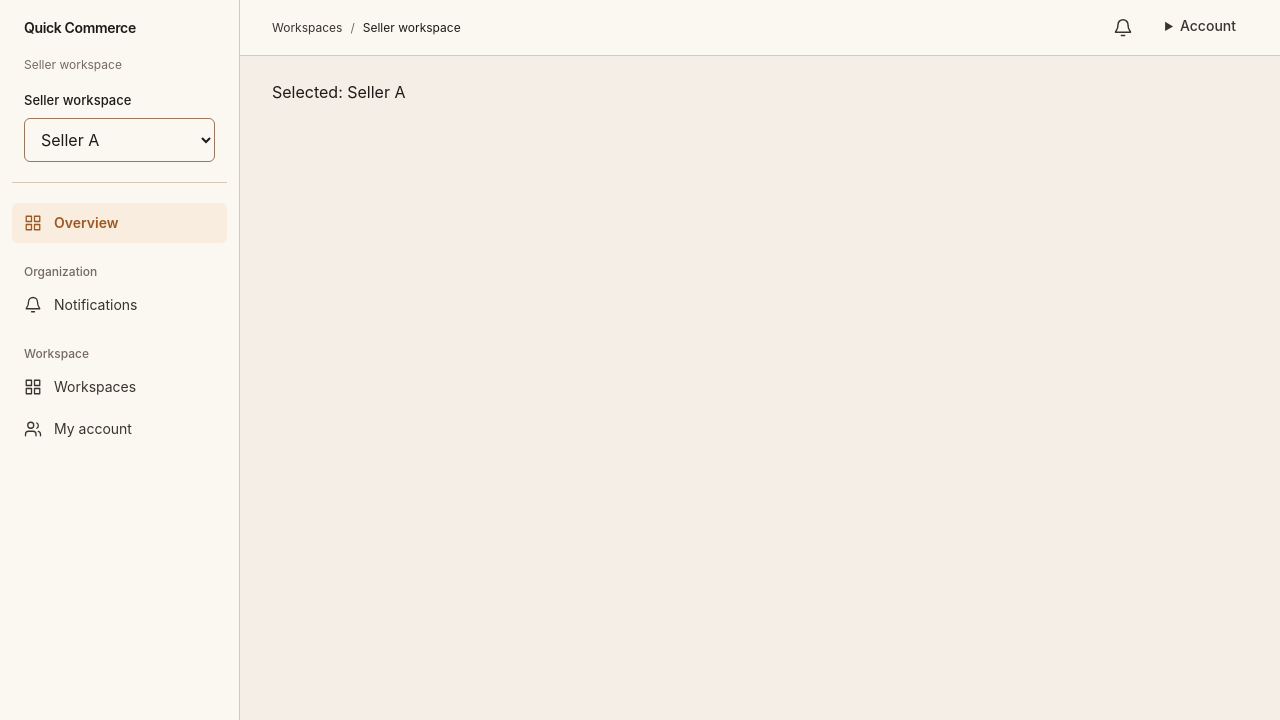
Test: workspace authorization UX › validates seller context and revalidates when selecting another seller
expect the heading "Selected: Seller A" is shown: met, box [272,82,406,102]
Select "Seller B" in the dropdown labelled "Seller workspace" at (120, 140), box [24,118,215,162]
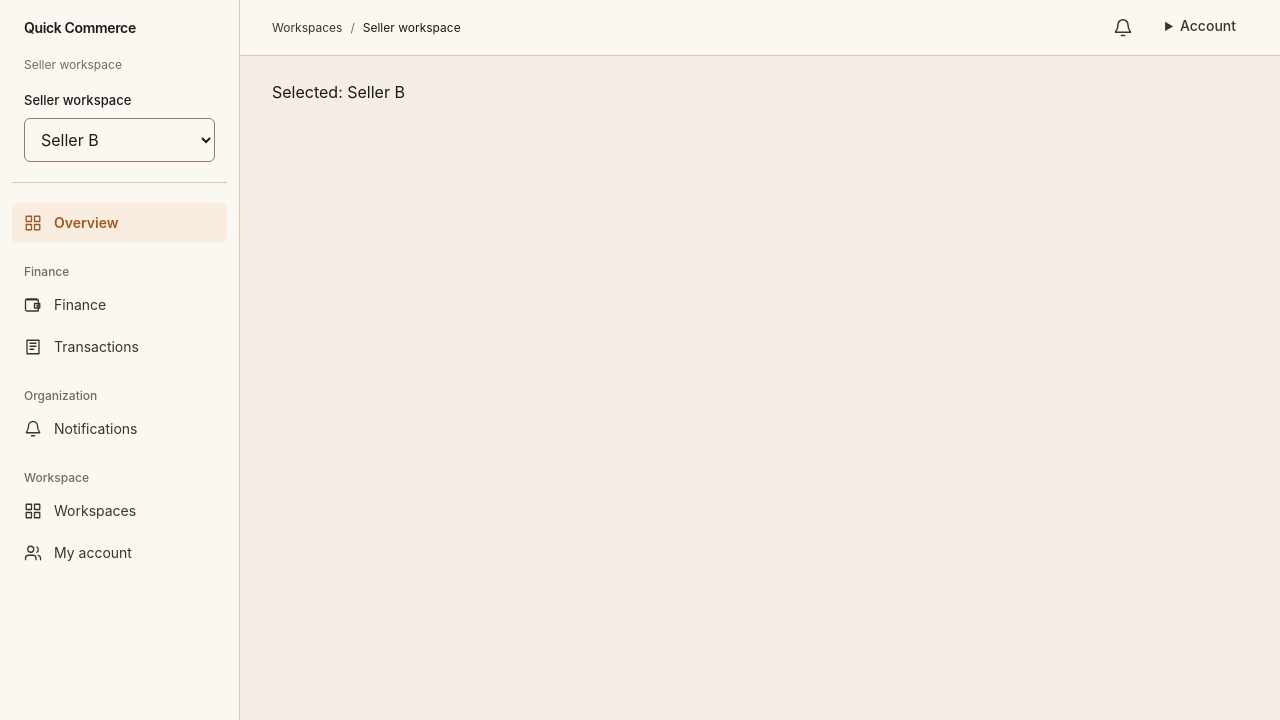
expect the heading "Selected: Seller B" is shown: met, box [272,82,405,102]
expect the heading "Selected: Seller A" is gone: met
